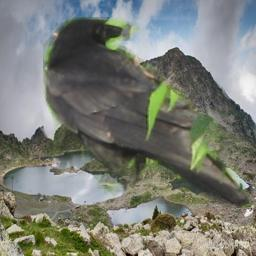Crow: (43, 17, 254, 208)
